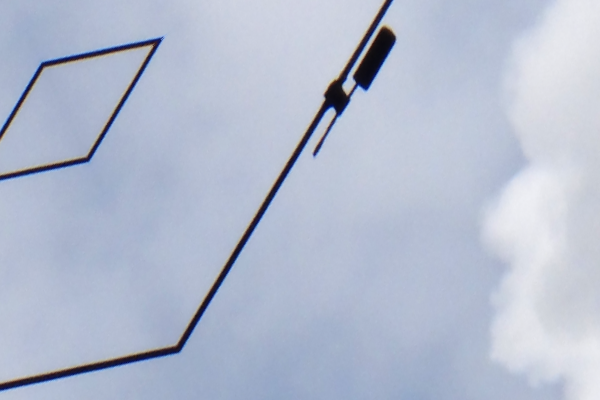damper_defect: (306, 25, 398, 160)
